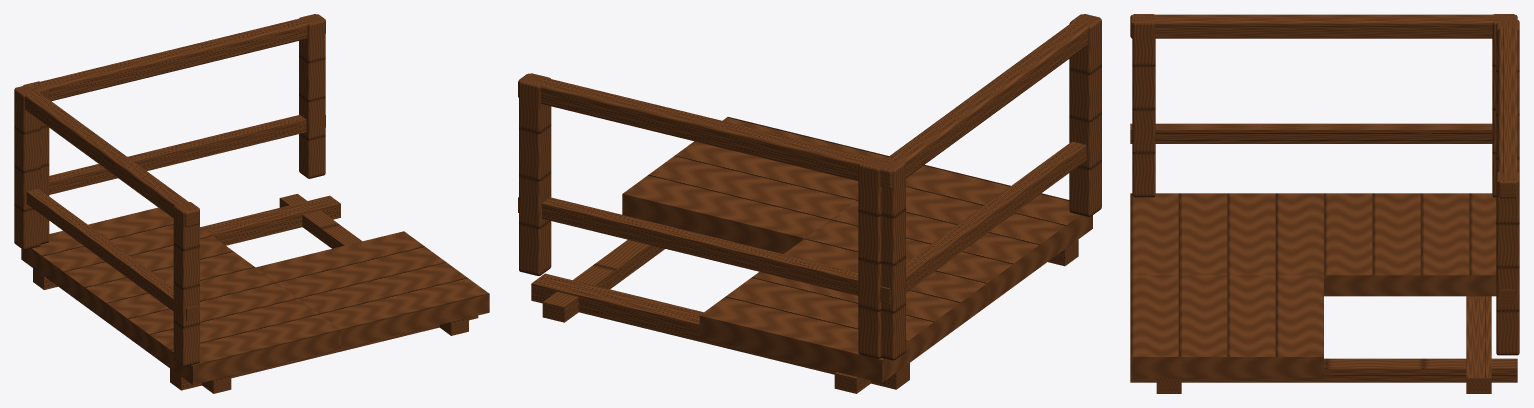
Rendered from fortified-compound-expansion-perimeter-turn-platform-bf694f2c__27112.glb.
3 views of the same model, side by side, from view 1: azimuth 30°, elevation 25°; view 2: azimuth 150°, elevation 25°; view 3: azimuth 270°, elevation 25° (orthographic). The views are drawn at different scales.
Visible parts, largest first — view 1: perimeter-turn-platform; view 2: perimeter-turn-platform; view 3: perimeter-turn-platform.
Boxes of the visible parts, <box> form: perimeter-turn-platform: <box>14,14,489,393</box>; perimeter-turn-platform: <box>518,14,1101,393</box>; perimeter-turn-platform: <box>1130,14,1519,393</box>.
Size of the model in its own units: 2.06 by 1.21 by 2.01.
1 material, 1 textured.
